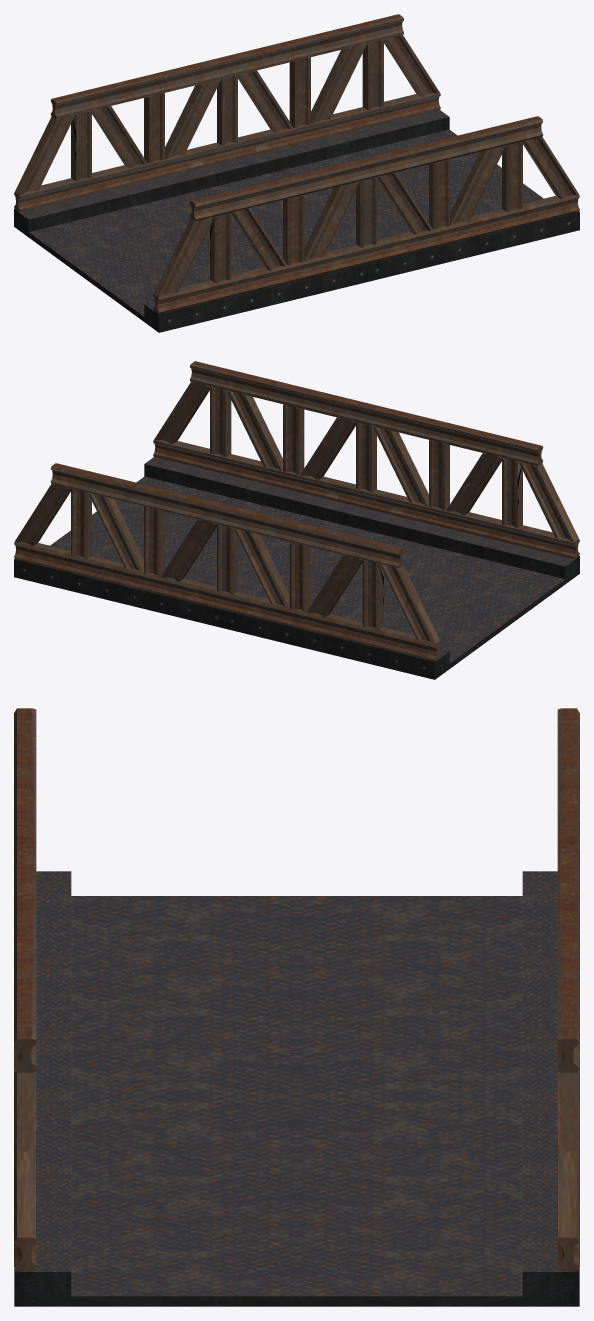
Rendered from truss_bridge_wide.obj.
3 views of the same model, one above another, from view 1: azimuth 30°, elevation 25°; view 2: azimuth 150°, elevation 25°; view 3: azimuth 270°, elevation 25° (orthographic). The views are drawn at different scales.
Parts seen in each view (by area): view 1: truss_bridge; view 2: truss_bridge; view 3: truss_bridge.
Part boxes in pixels (box(x1,y1,x2,y2)): truss_bridge: box(14, 14, 579, 332); truss_bridge: box(14, 361, 579, 679); truss_bridge: box(14, 708, 579, 1306).
Size of the model in its own units: 12.23 by 3.32 by 7.31.
1 material, 1 textured.
